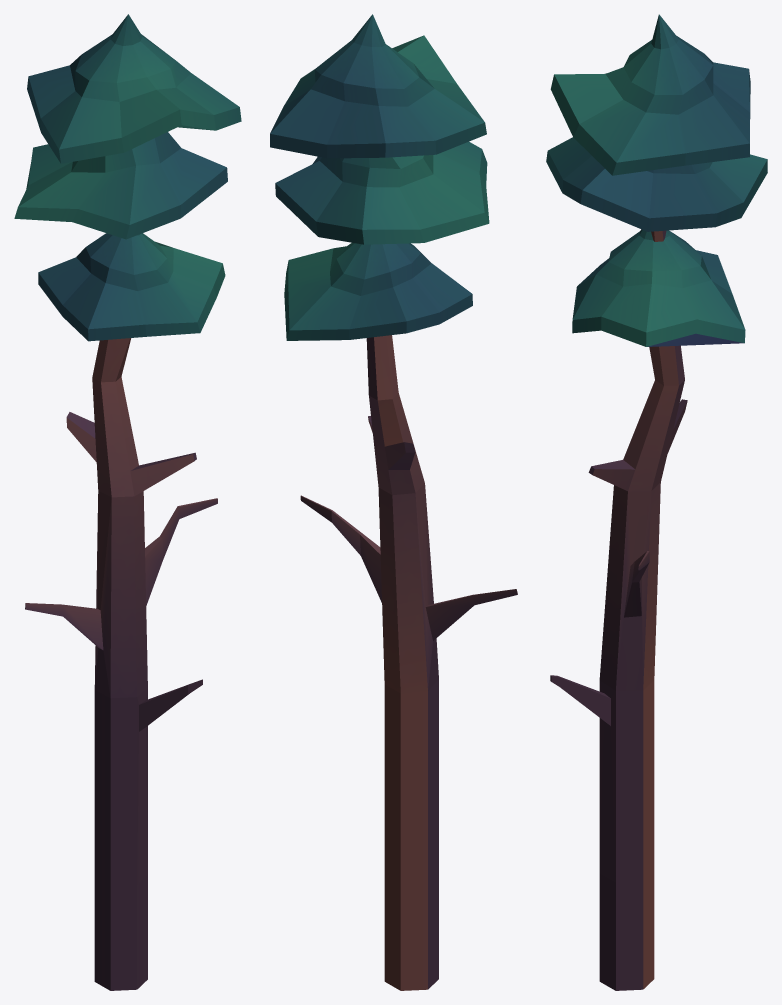
The model's file is Tree_Pine01.fbx.
3 views of the same model, side by side, from view 1: azimuth 30°, elevation 25°; view 2: azimuth 150°, elevation 25°; view 3: azimuth 270°, elevation 25° (orthographic). The views are drawn at different scales.
Parts seen in each view (by area): view 1: TolTreeTrunk1; view 2: TolTreeTrunk1; view 3: TolTreeTrunk1.
Part boxes in pixels (x1=…): TolTreeTrunk1: x1=14, y1=14, x2=241, y2=990; TolTreeTrunk1: x1=270, y1=14, x2=517, y2=990; TolTreeTrunk1: x1=546, y1=14, x2=767, y2=990.
Size of the model in its own units: 154 by 656 by 135.
